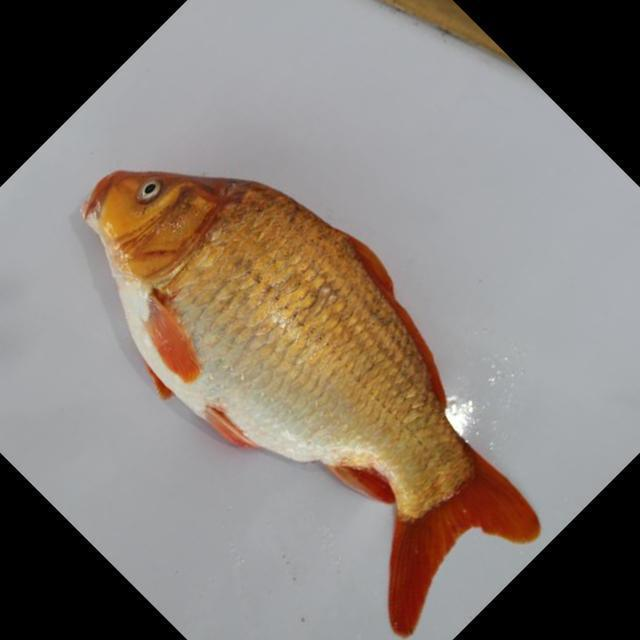Gold-Fish: (22, 97, 543, 620)
